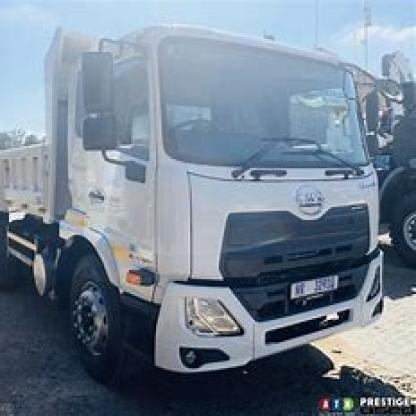dump_truck: (2, 15, 391, 394)
